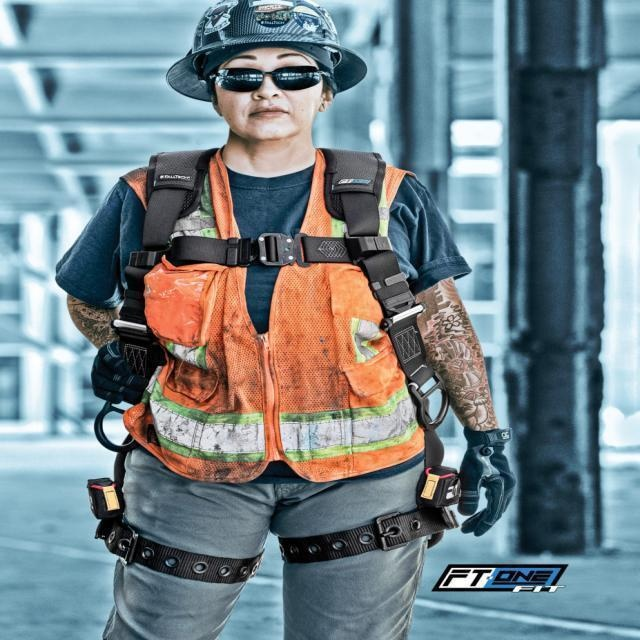Arnes_seguridad: (98, 139, 458, 593)
